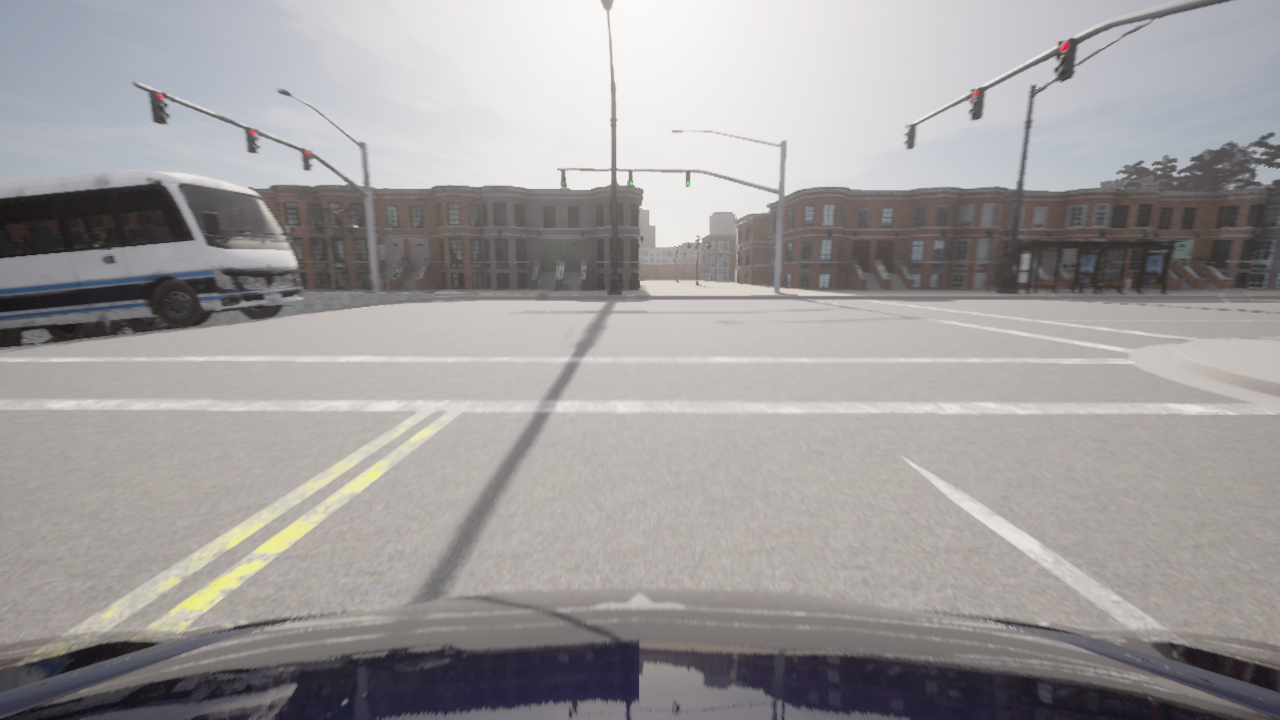cyclist: (0, 588, 1279, 719), (0, 171, 302, 348), (38, 315, 182, 344), (21, 337, 34, 346)
